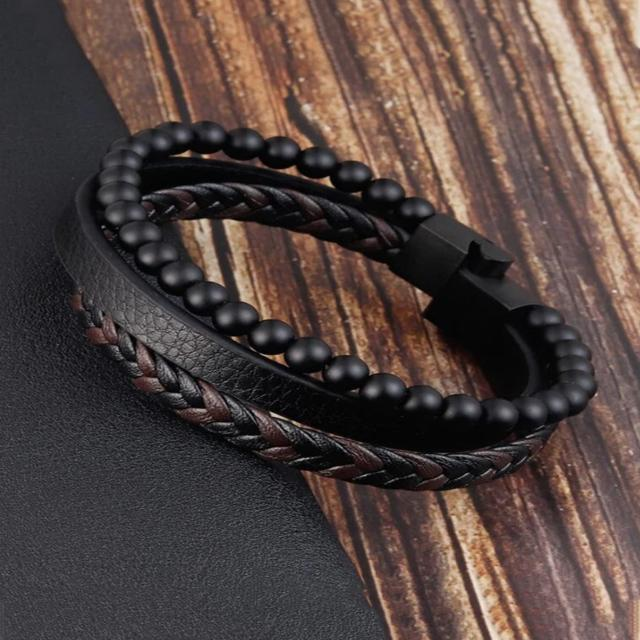bracelet: (54, 48, 594, 522)
